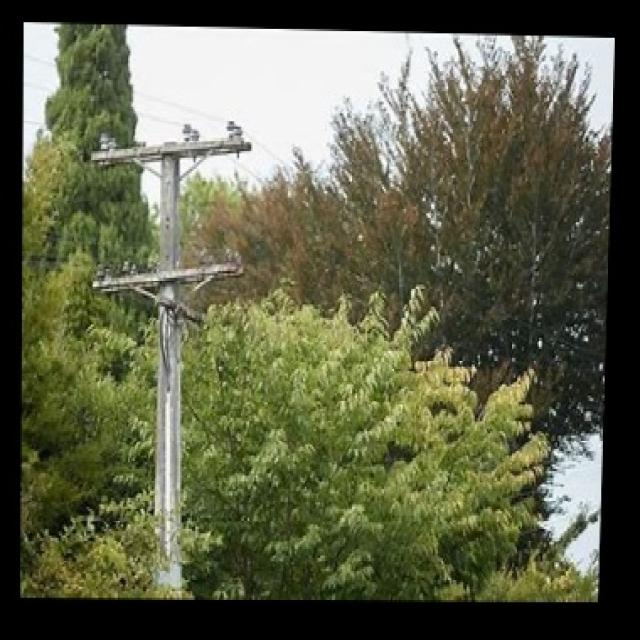utility poles: (80, 101, 247, 595)
